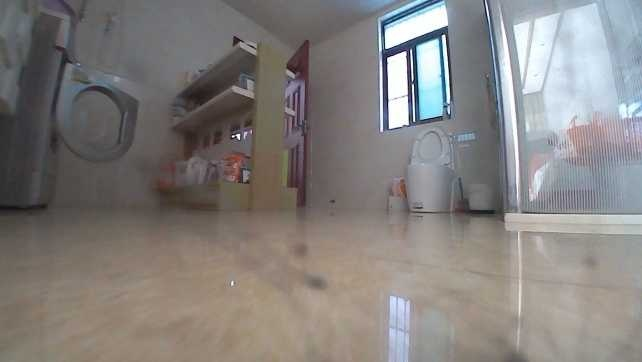toilet: (401, 125, 460, 217)
washing_machine1: (0, 40, 138, 210)
